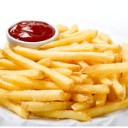frenchfries: (1, 40, 128, 120)
